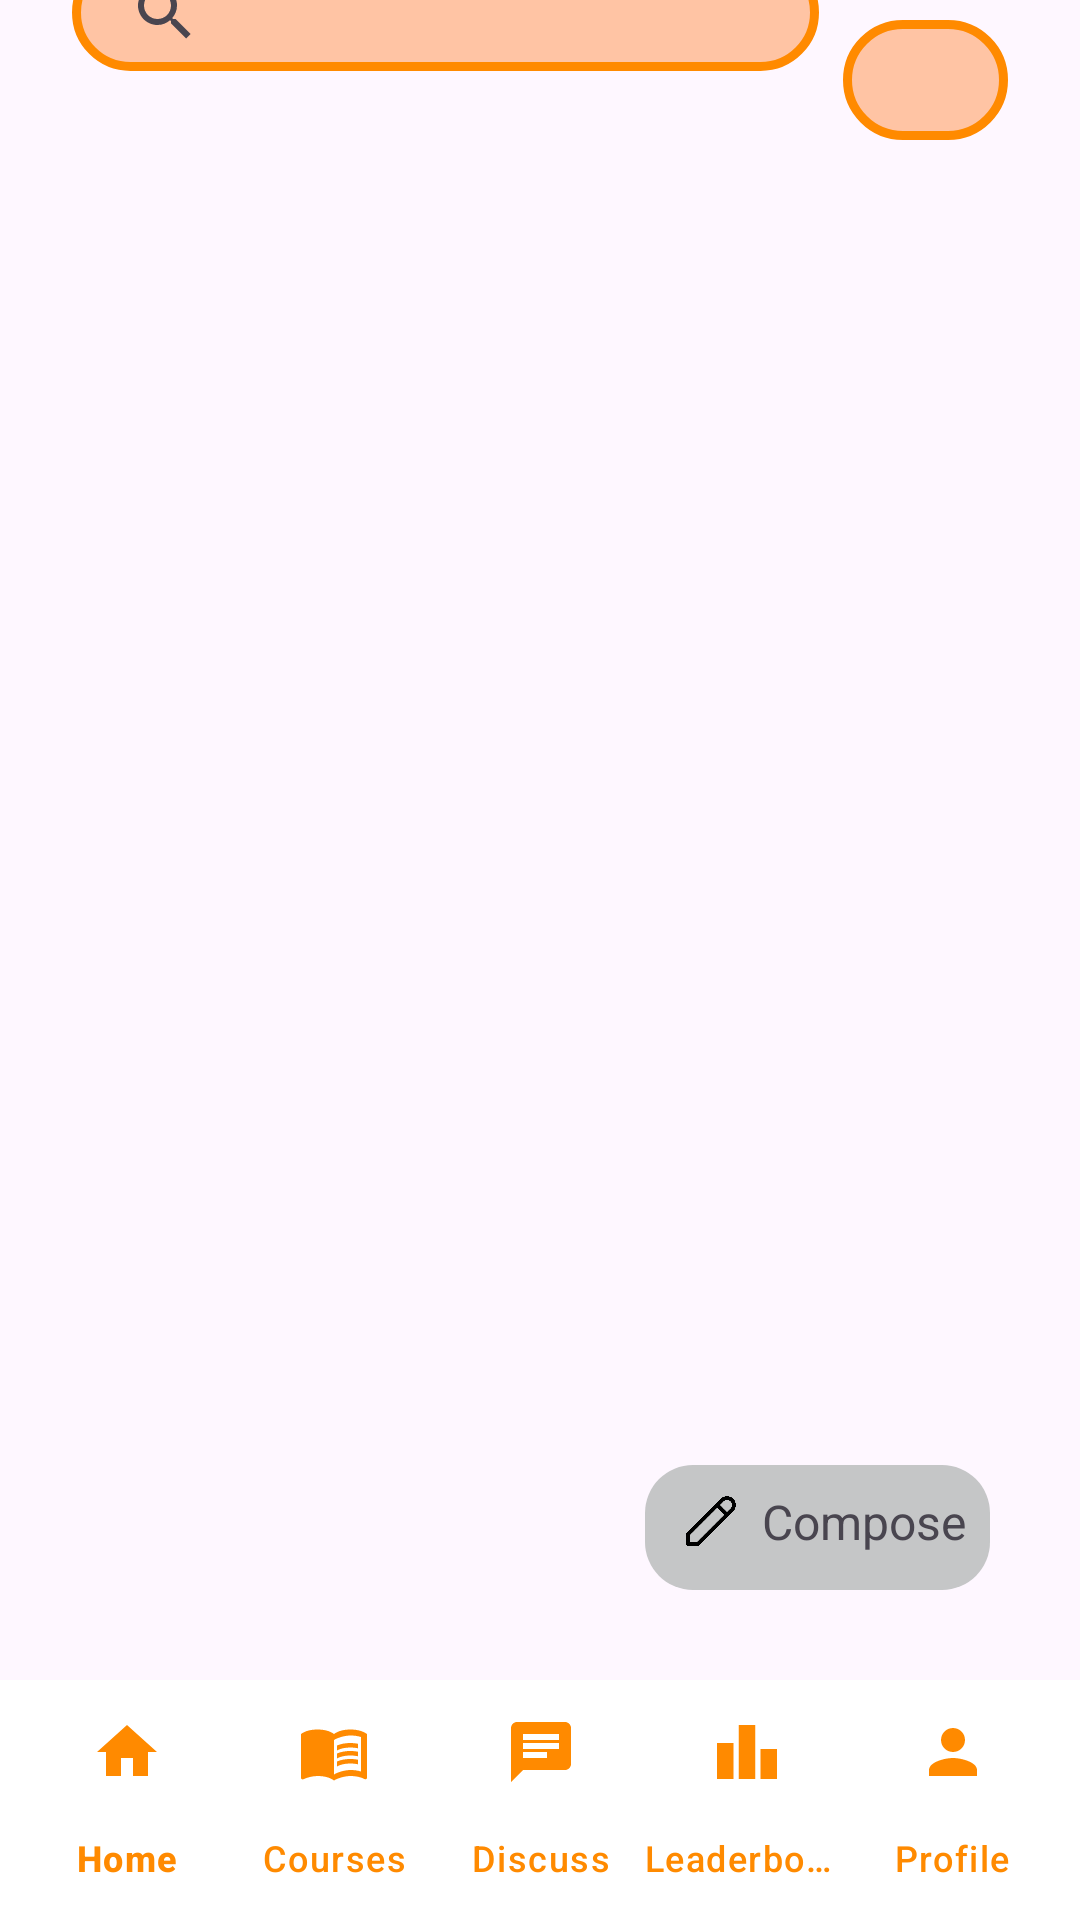

Named icons in this screenshot (1080*1920) and their bounding boxes, region(x1, y1, x2, y2):
pencil: region(686, 1496, 736, 1546)
